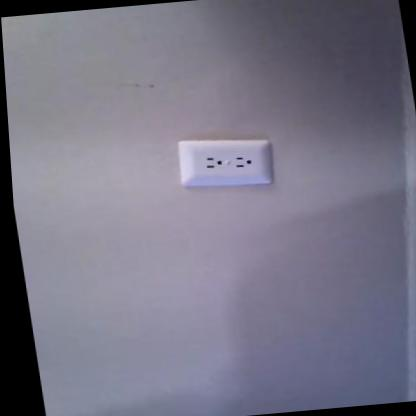OUTLET: (174, 131, 279, 192)
